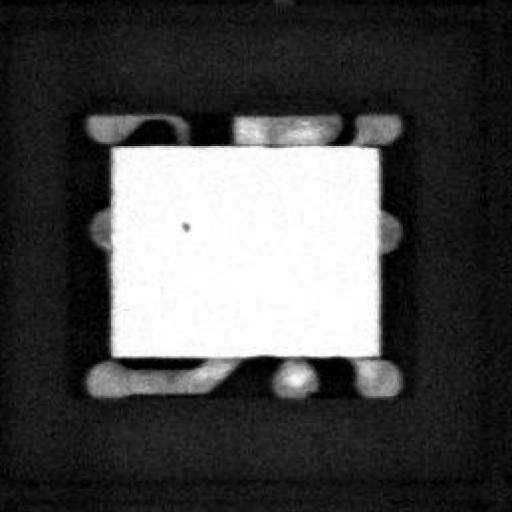DIE_INK: (167, 226, 182, 244)
